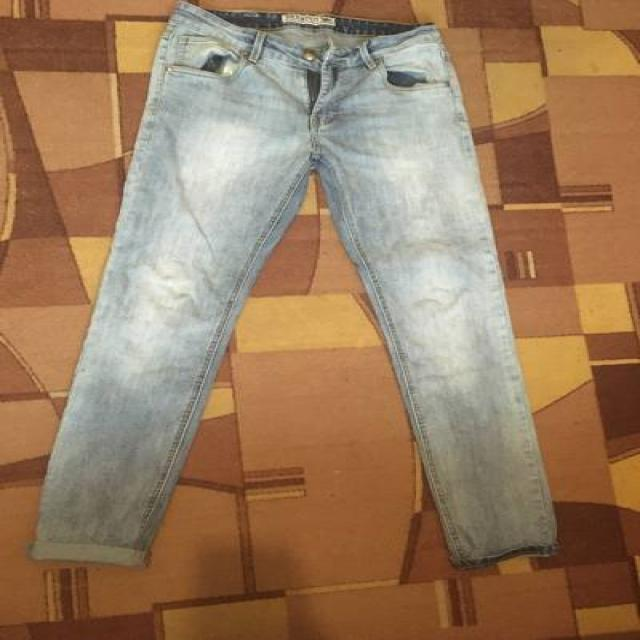Clothes -Biodegradable-: (30, 3, 569, 567)
